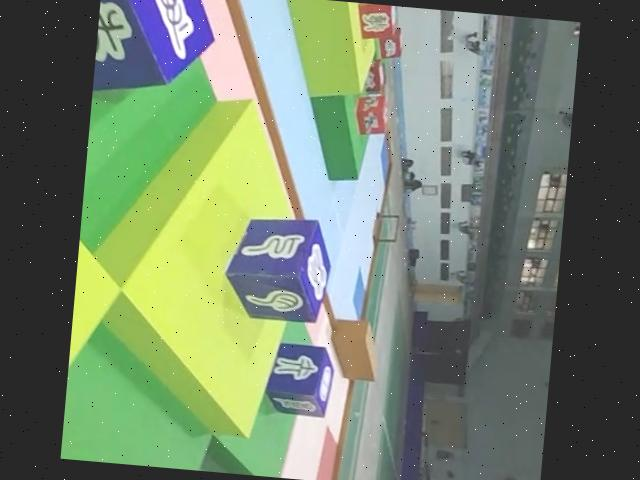R2 Fake Blue: (221, 210, 336, 324), (92, 0, 216, 100), (261, 336, 336, 415)
